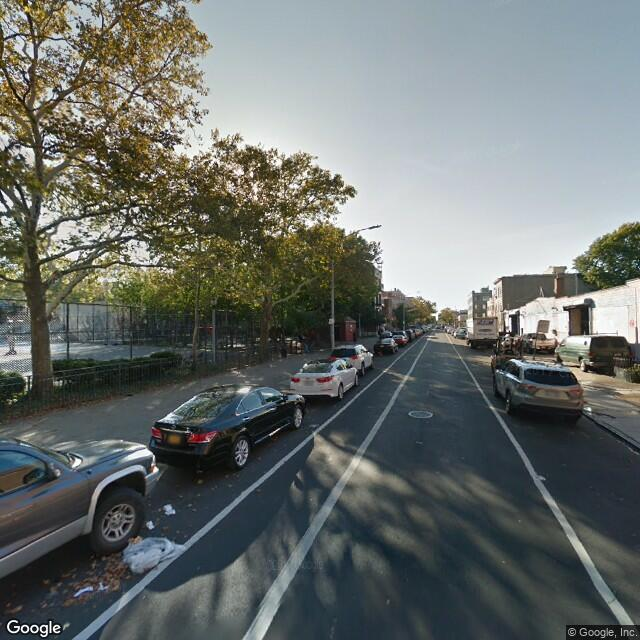litter: (112, 533, 190, 571), (68, 581, 112, 597), (161, 498, 179, 518), (142, 518, 158, 530)
